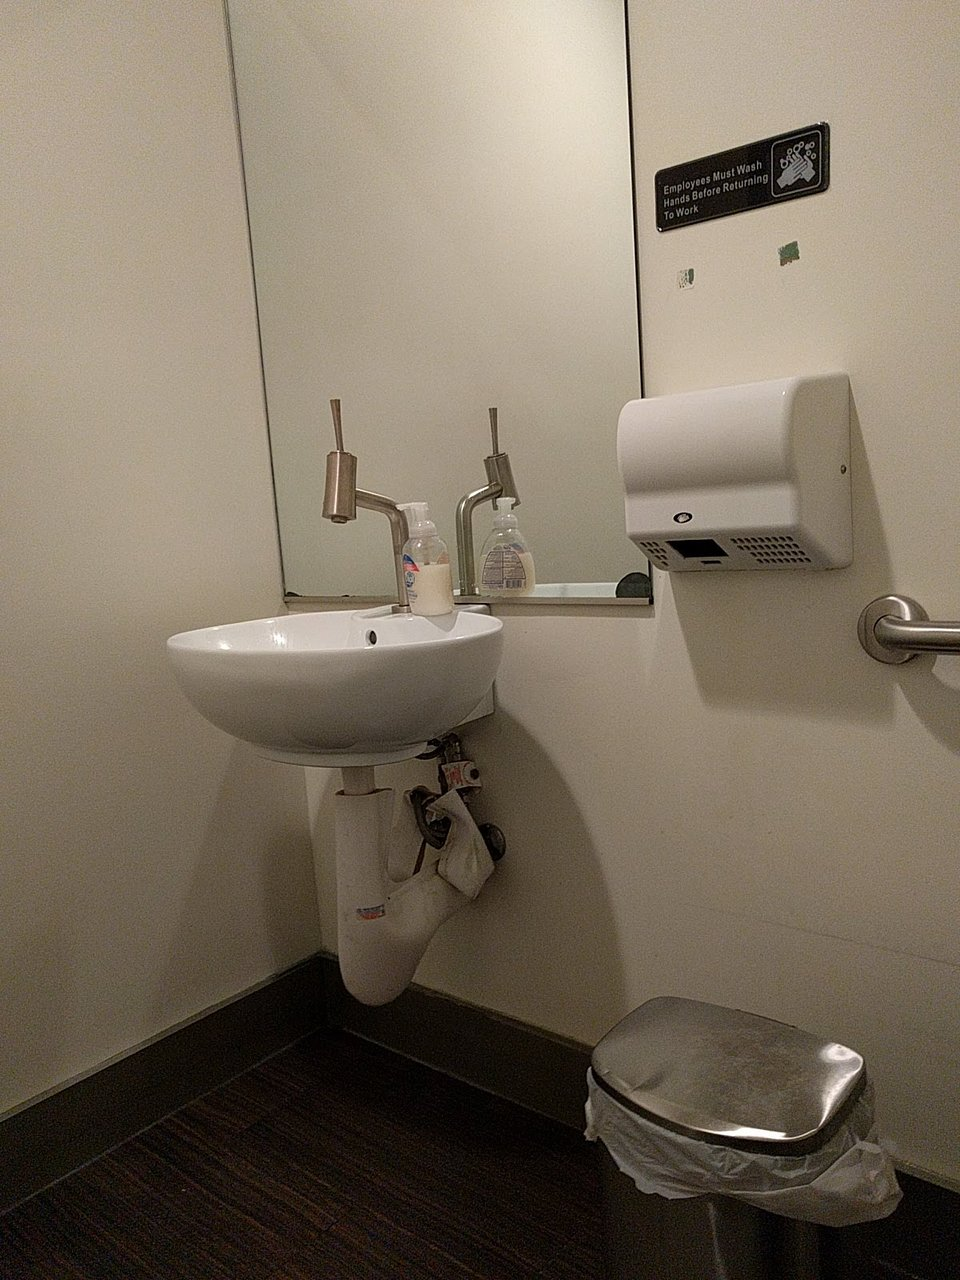dispenser: (394, 502, 462, 606)
faucet: (320, 398, 413, 614)
restroom_assist_bar: (858, 595, 960, 666)
sink: (164, 599, 505, 765)
waste_bin: (582, 996, 905, 1280)
